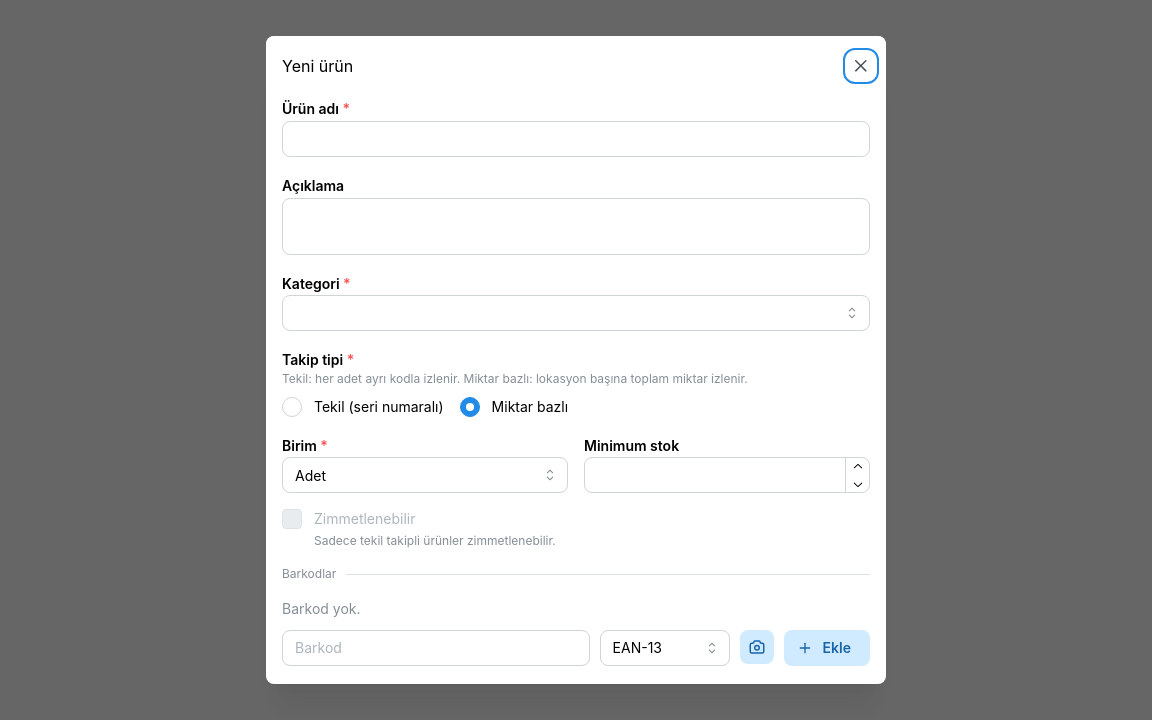
Test: ProductFormModal › only enables "assignable" for serialized products
The image size is (1152, 720).
expect the radio button labelled "Miktar bazlı" is checked: met, box [460,397,480,417]
expect the checkbox labelled "Zimmetlenebilir" is disabled: met, box [282,509,302,529]
What coordinates should you click on to do the following:
click the radio button labelled "Tekil (seri numaralı)"
I would click on:
 (292, 407)
Its box is [282,397,302,417].
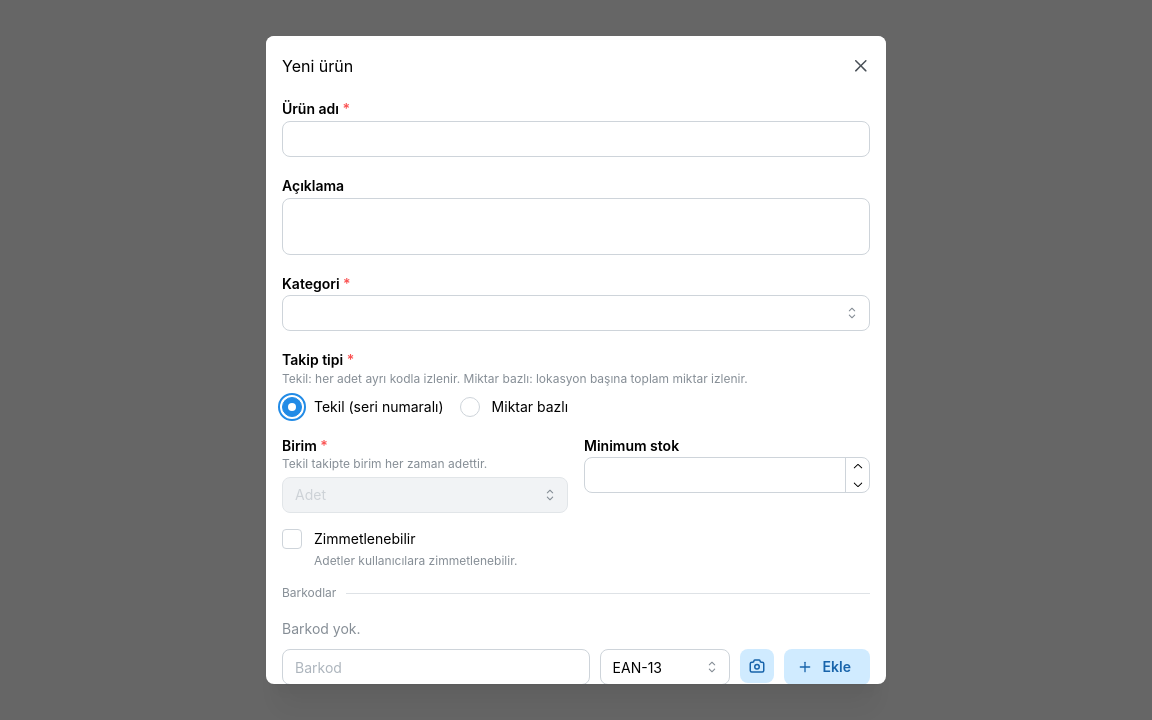
expect the checkbox labelled "Zimmetlenebilir" is enabled: met
What coordinates should you click on to do the following:
click the checkbox labelled "Zimmetlenebilir"
I would click on:
 (292, 539)
Its box is [282,529,302,549].
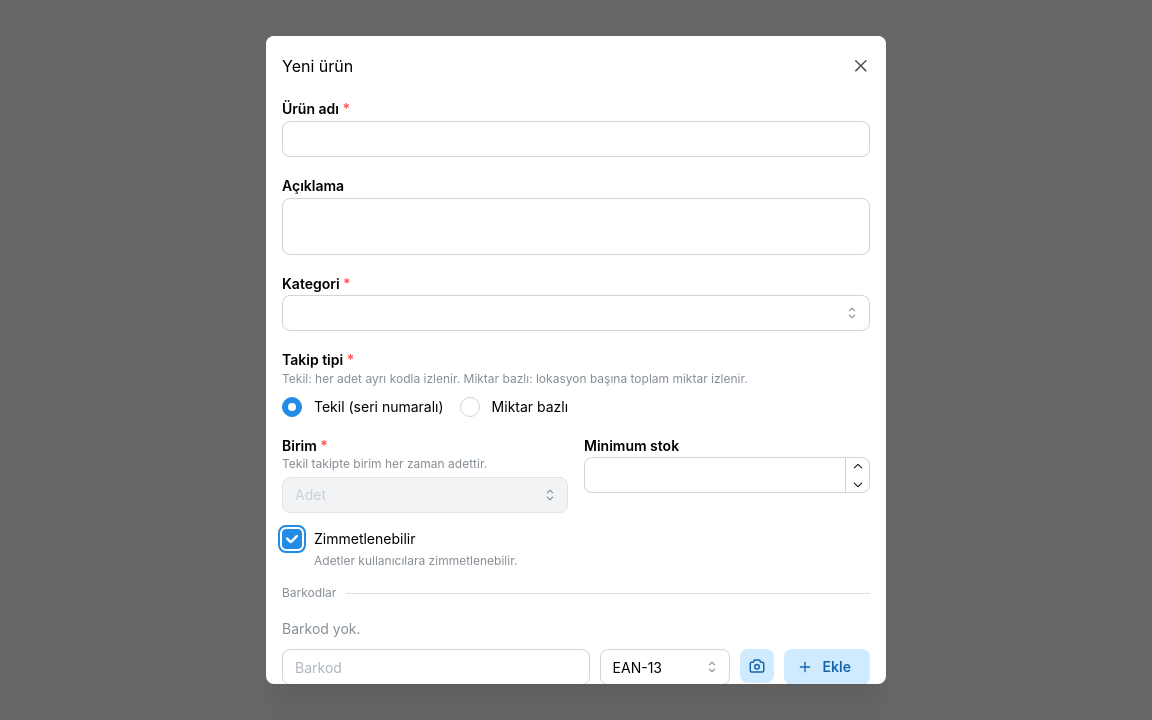
expect the checkbox labelled "Zimmetlenebilir" is checked: met, box [282,529,302,549]
Note: Switching back clears and disables it.
What coordinates should you click on to do the following:
click the radio button labelled "Miktar bazlı"
I would click on:
 (470, 407)
Its box is [460,397,480,417].
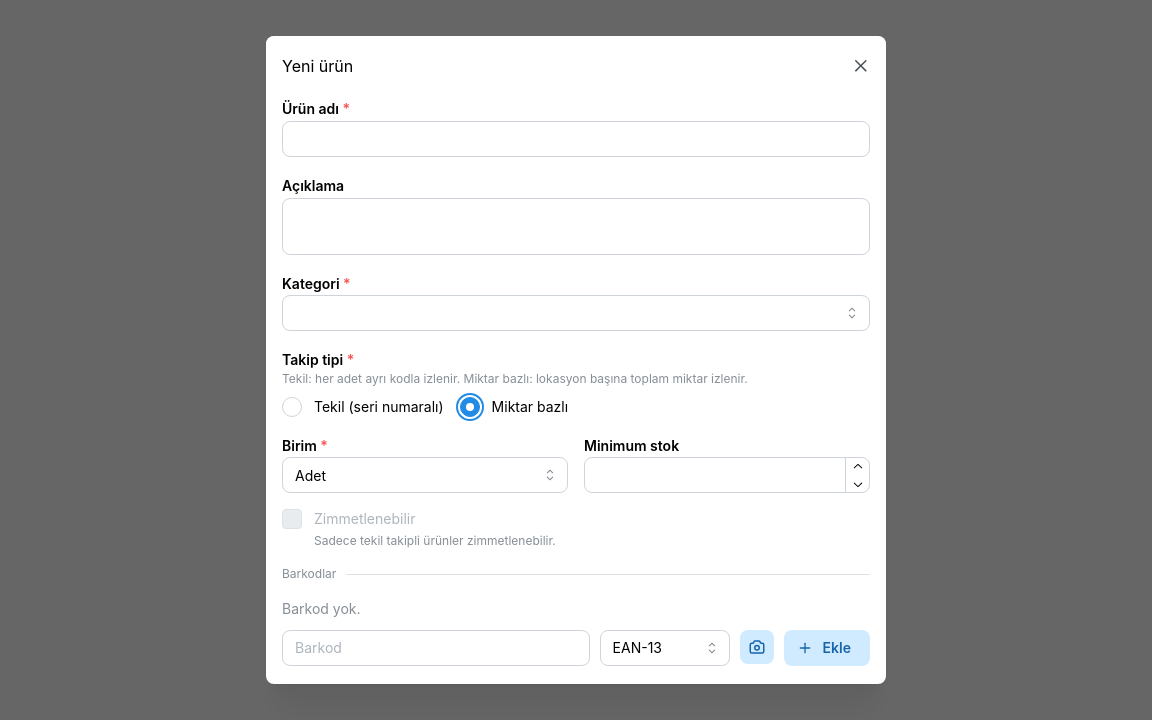
expect the checkbox labelled "Zimmetlenebilir" is not checked: met, box [282,509,302,529]
expect the checkbox labelled "Zimmetlenebilir" is disabled: met, box [282,509,302,529]
